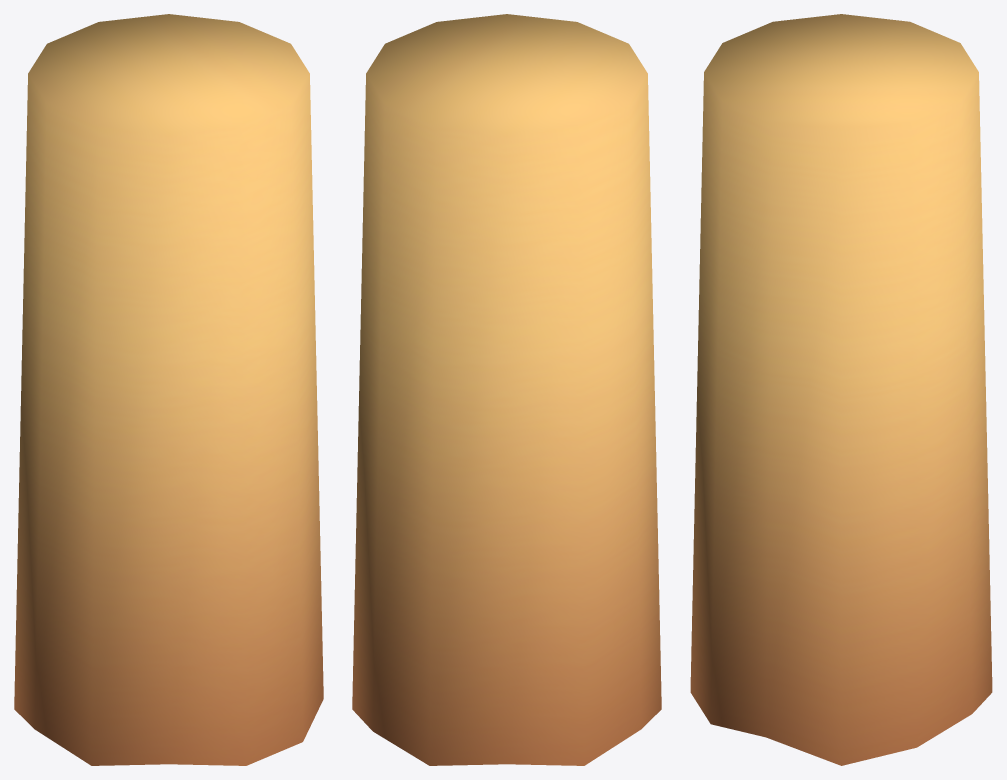
File: light.fbx
3 renders of one model, left to right at view 1: azimuth 30°, elevation 25°; view 2: azimuth 150°, elevation 25°; view 3: azimuth 270°, elevation 25°, orthographic. The views are drawn at different scales.
Parts seen in each view (by area): view 1: light; view 2: light; view 3: light.
Part boxes in pixels (bbox=[...]): light: bbox=[14, 14, 323, 765]; light: bbox=[352, 14, 661, 765]; light: bbox=[690, 14, 992, 765].
Size of the model in its own units: 26.4 by 60.77 by 26.4.
